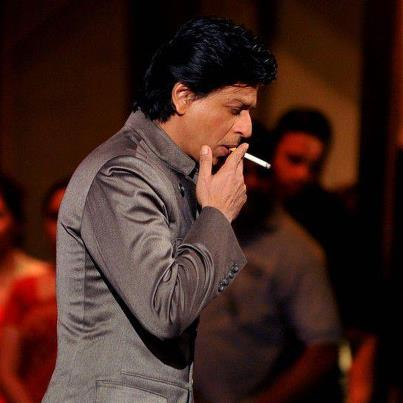cigarette: (230, 145, 271, 169)
